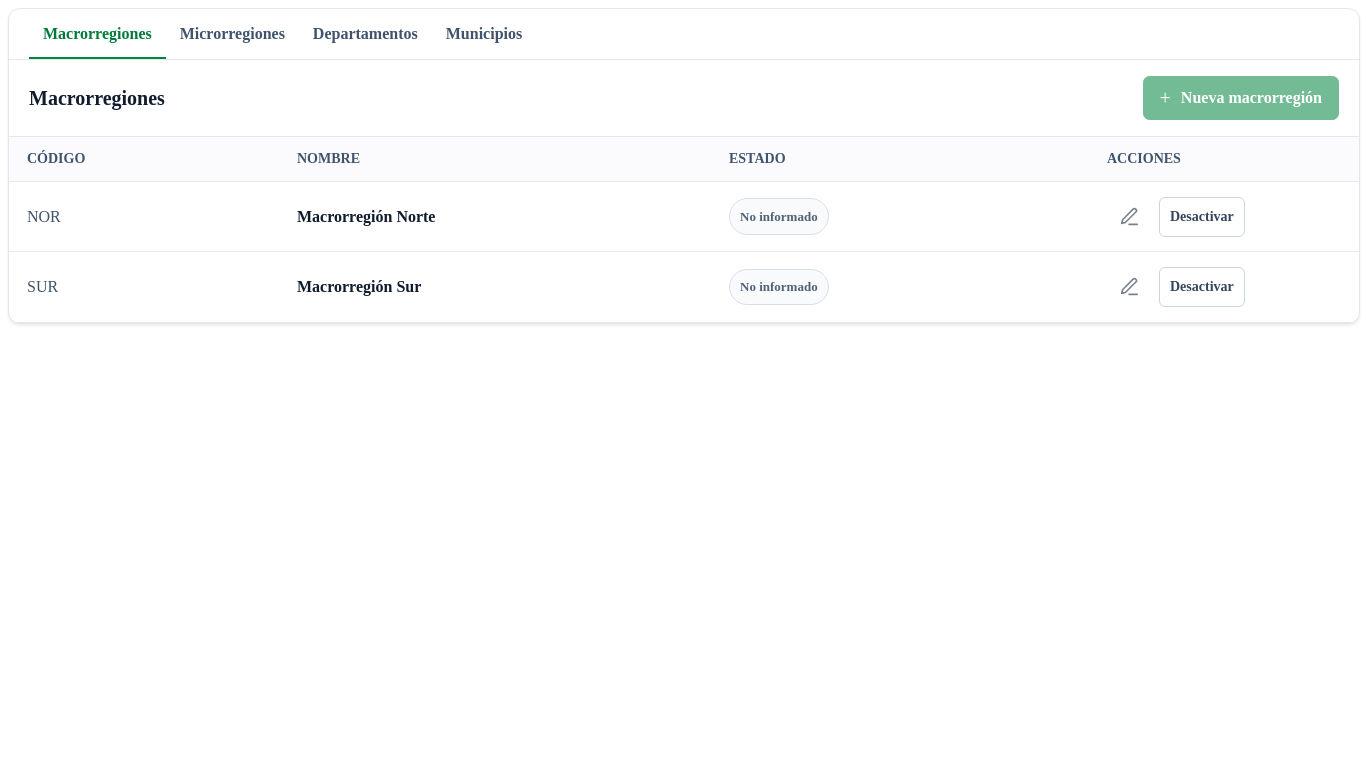
Test: GeographyHierarchy › gestiona el foco, el ciclo de tabulación y Escape en la confirmación
Click the button with aria-label "Desactivar Macrorregión Norte".
click(1202, 216)  # box x1=1159 y1=196 x2=1245 y2=236
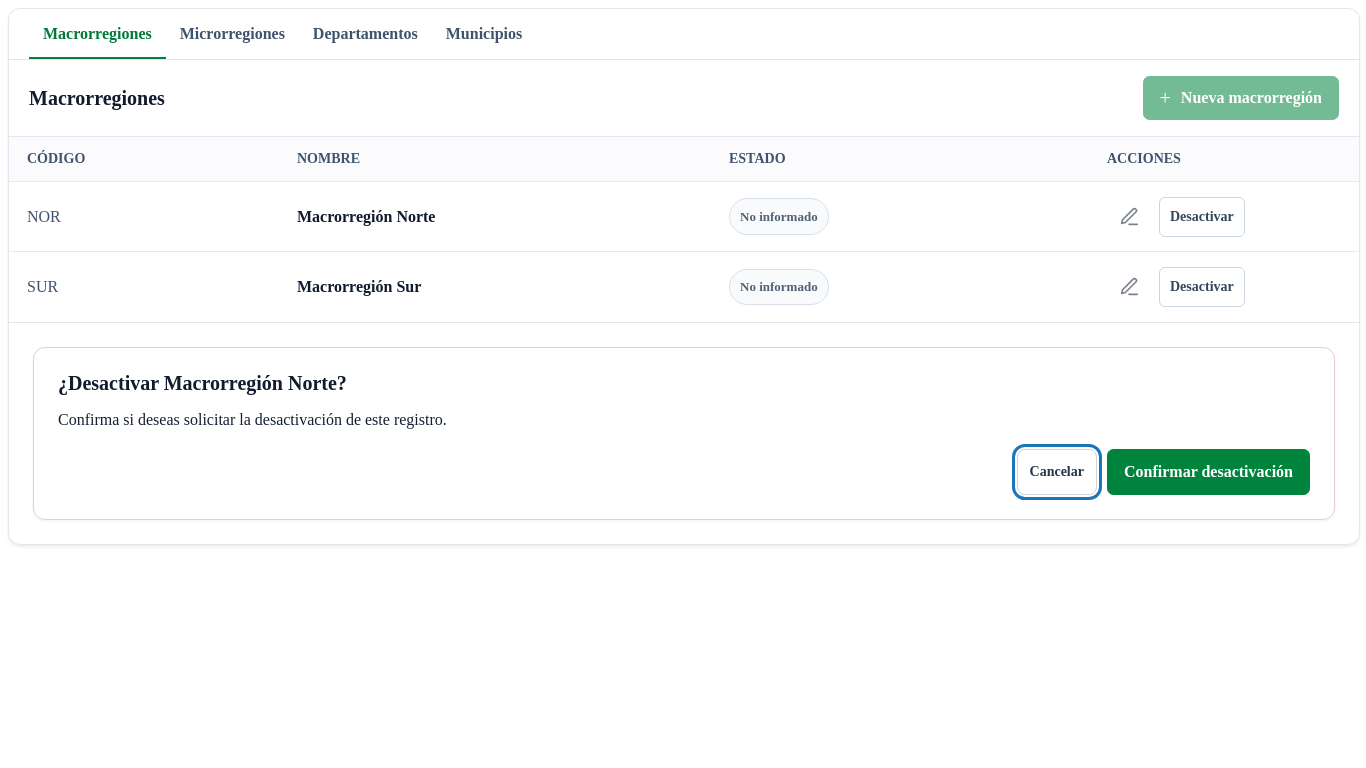
Press Tab in the button "Cancelar", box x1=1016 y1=448 x2=1097 y2=494
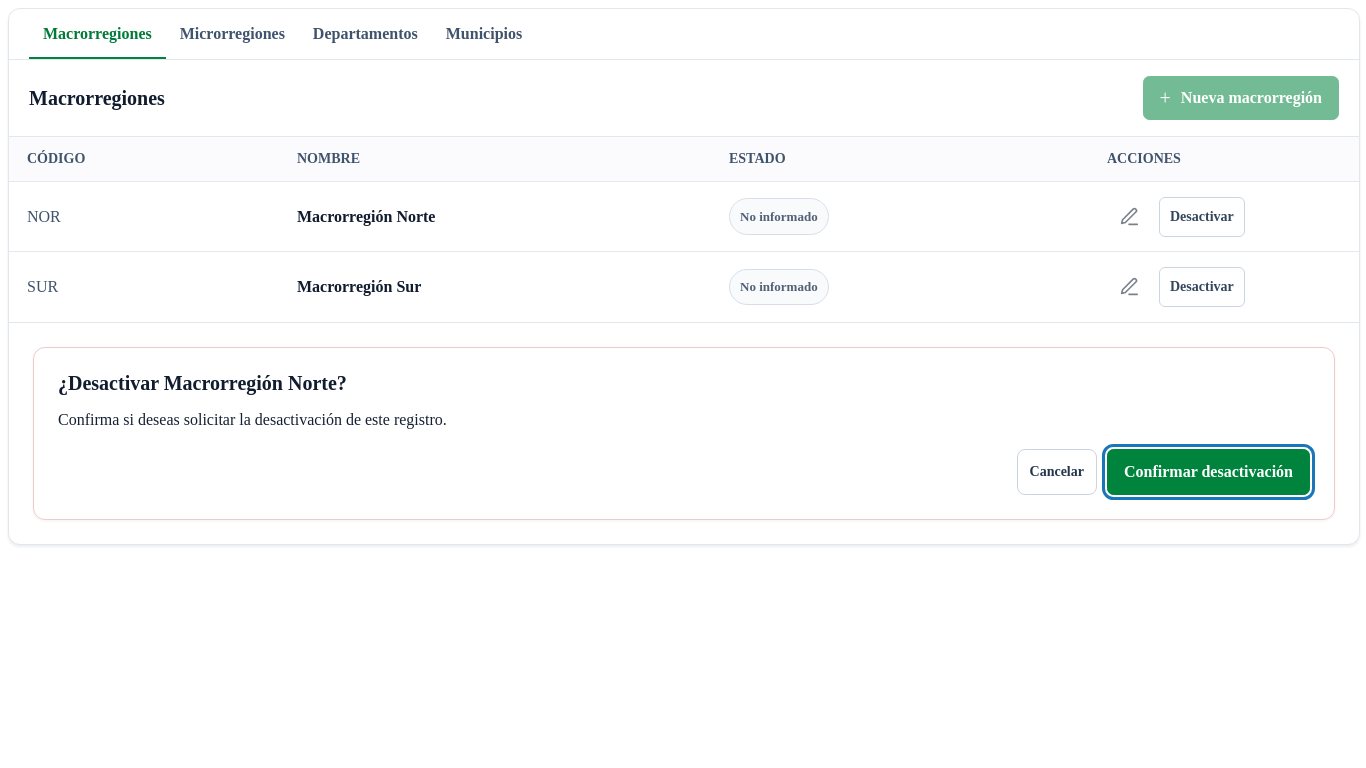
Press Tab in the button "Confirmar desactivación", box x1=1107 y1=448 x2=1310 y2=494
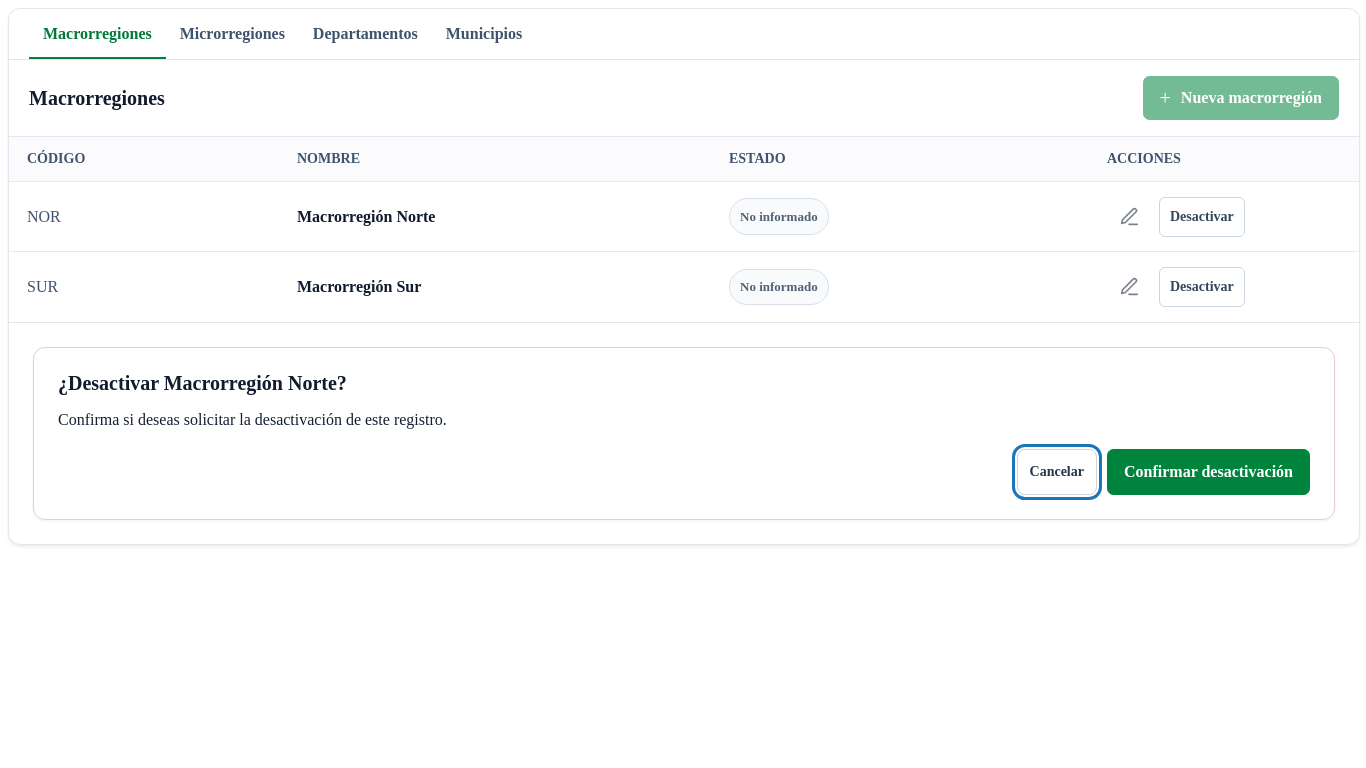
Press Escape in the button "Cancelar", box x1=1016 y1=448 x2=1097 y2=494
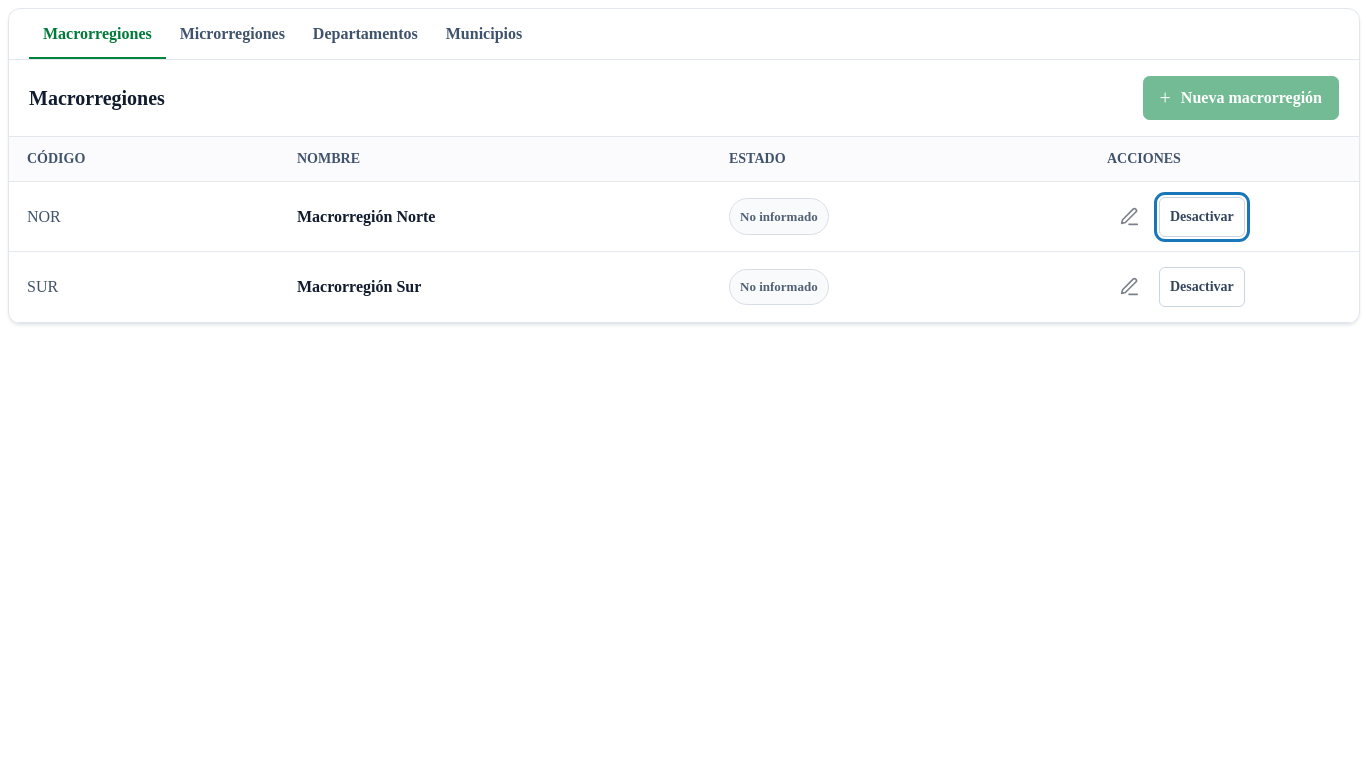
Check: the dialog is gone
